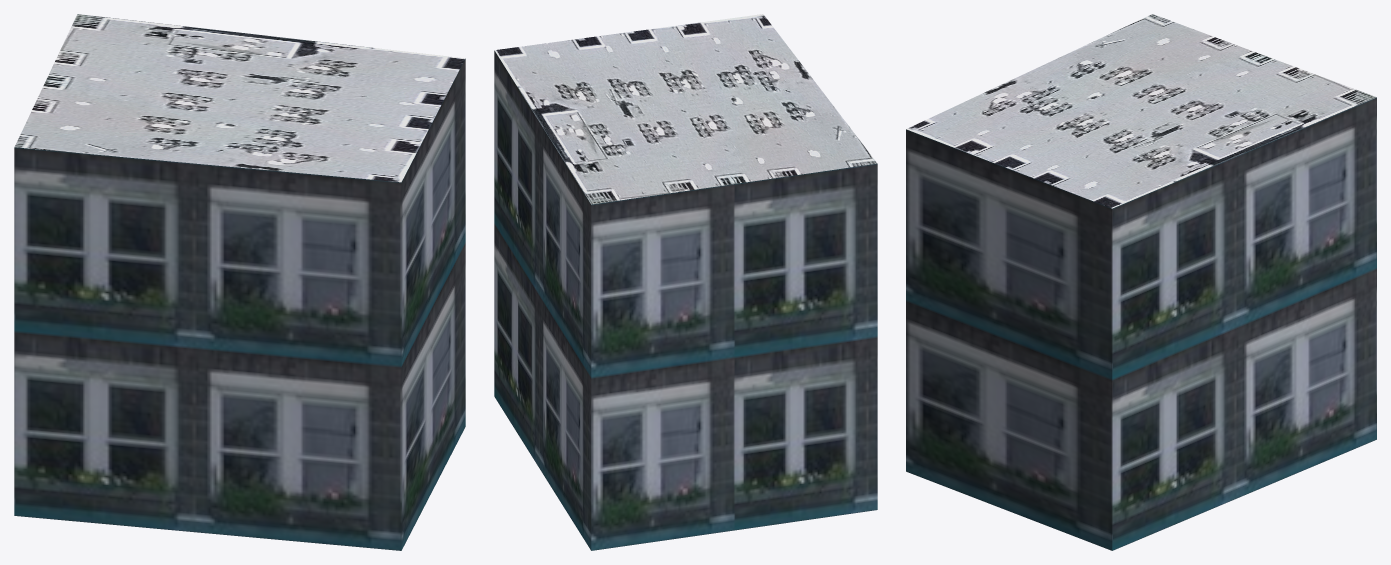
Rendered from ResTex__289.fbx.
3 renders of one model, left to right at view 1: azimuth 30°, elevation 25°; view 2: azimuth 150°, elevation 25°; view 3: azimuth 270°, elevation 25°, orthographic. The views are drawn at different scales.
Visible parts, largest first — view 1: CityEngineMaterial_11_m, CityEngineMaterial_m; view 2: CityEngineMaterial_11_m, CityEngineMaterial_m; view 3: CityEngineMaterial_11_m, CityEngineMaterial_m.
Boxes of the visible parts, x1,y1,x2,y2 form: CityEngineMaterial_11_m: (14,58,465,550); CityEngineMaterial_m: (14,14,465,182); CityEngineMaterial_11_m: (494,50,877,550); CityEngineMaterial_m: (494,14,877,204); CityEngineMaterial_11_m: (906,97,1376,550); CityEngineMaterial_m: (906,14,1376,208).
Bounding box in the file's own units: 7.32 × 6 × 7.48.
2 materials, 2 textured.
